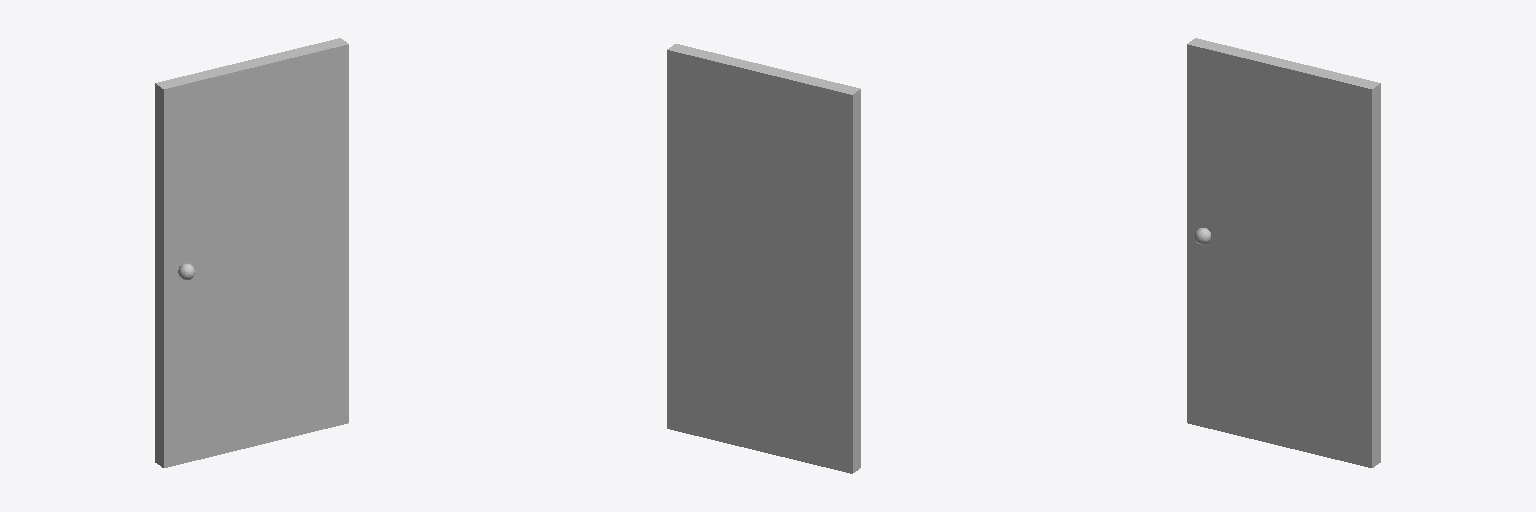
File: Door.obj
The picture shows the model from 3 angles: view 1: azimuth 30°, elevation 25°; view 2: azimuth 150°, elevation 25°; view 3: azimuth 330°, elevation 25°; orthographic projection.
Visible parts, largest first — view 1: Door_Cube.005; view 2: Door_Cube.005; view 3: Door_Cube.005.
Part boxes in pixels (bbox=[...]): Door_Cube.005: bbox=[155, 38, 348, 467]; Door_Cube.005: bbox=[667, 44, 860, 473]; Door_Cube.005: bbox=[1187, 38, 1380, 467].
Bounding box in the file's own units: 1 × 1.95 × 0.1517.